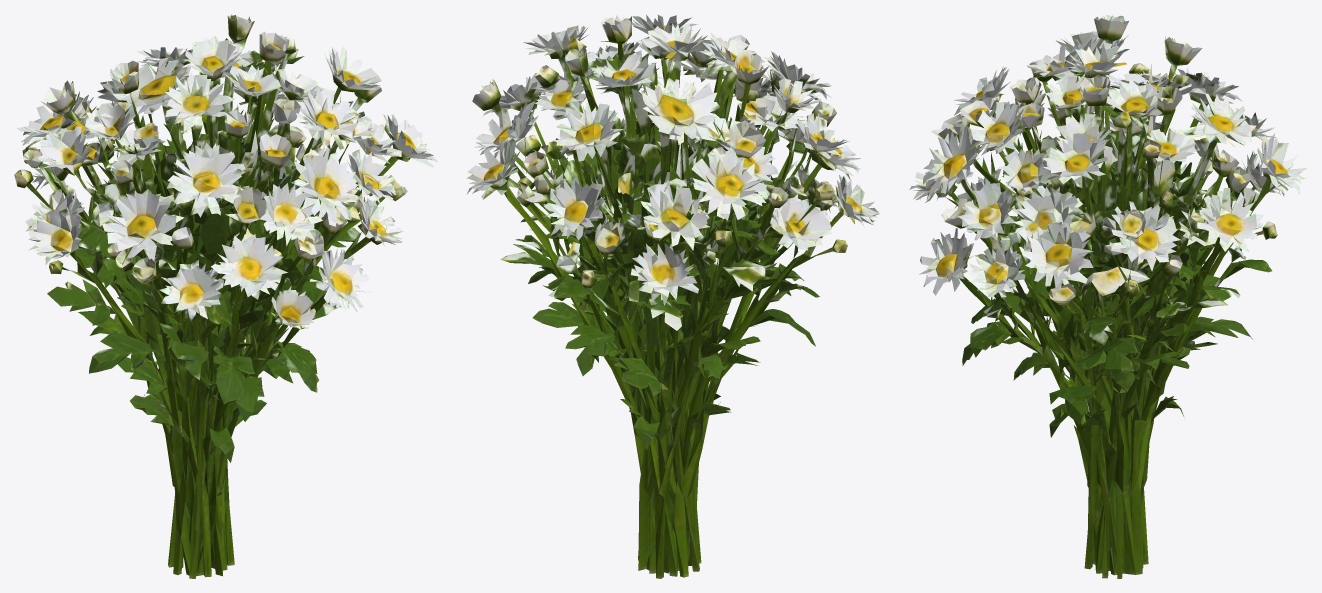
File: gandama.glb
The picture shows the model from 3 angles, left to right: view 1: azimuth 30°, elevation 25°; view 2: azimuth 150°, elevation 25°; view 3: azimuth 270°, elevation 25°; orthographic projection. The views are drawn at different scales.
Size of the model in its own units: 1.49 by 1.91 by 1.33.
1 material, 1 textured.
